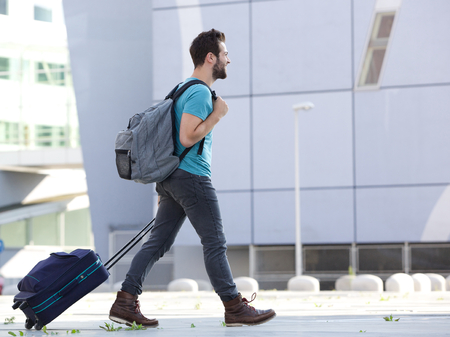person: (104, 26, 275, 333)
